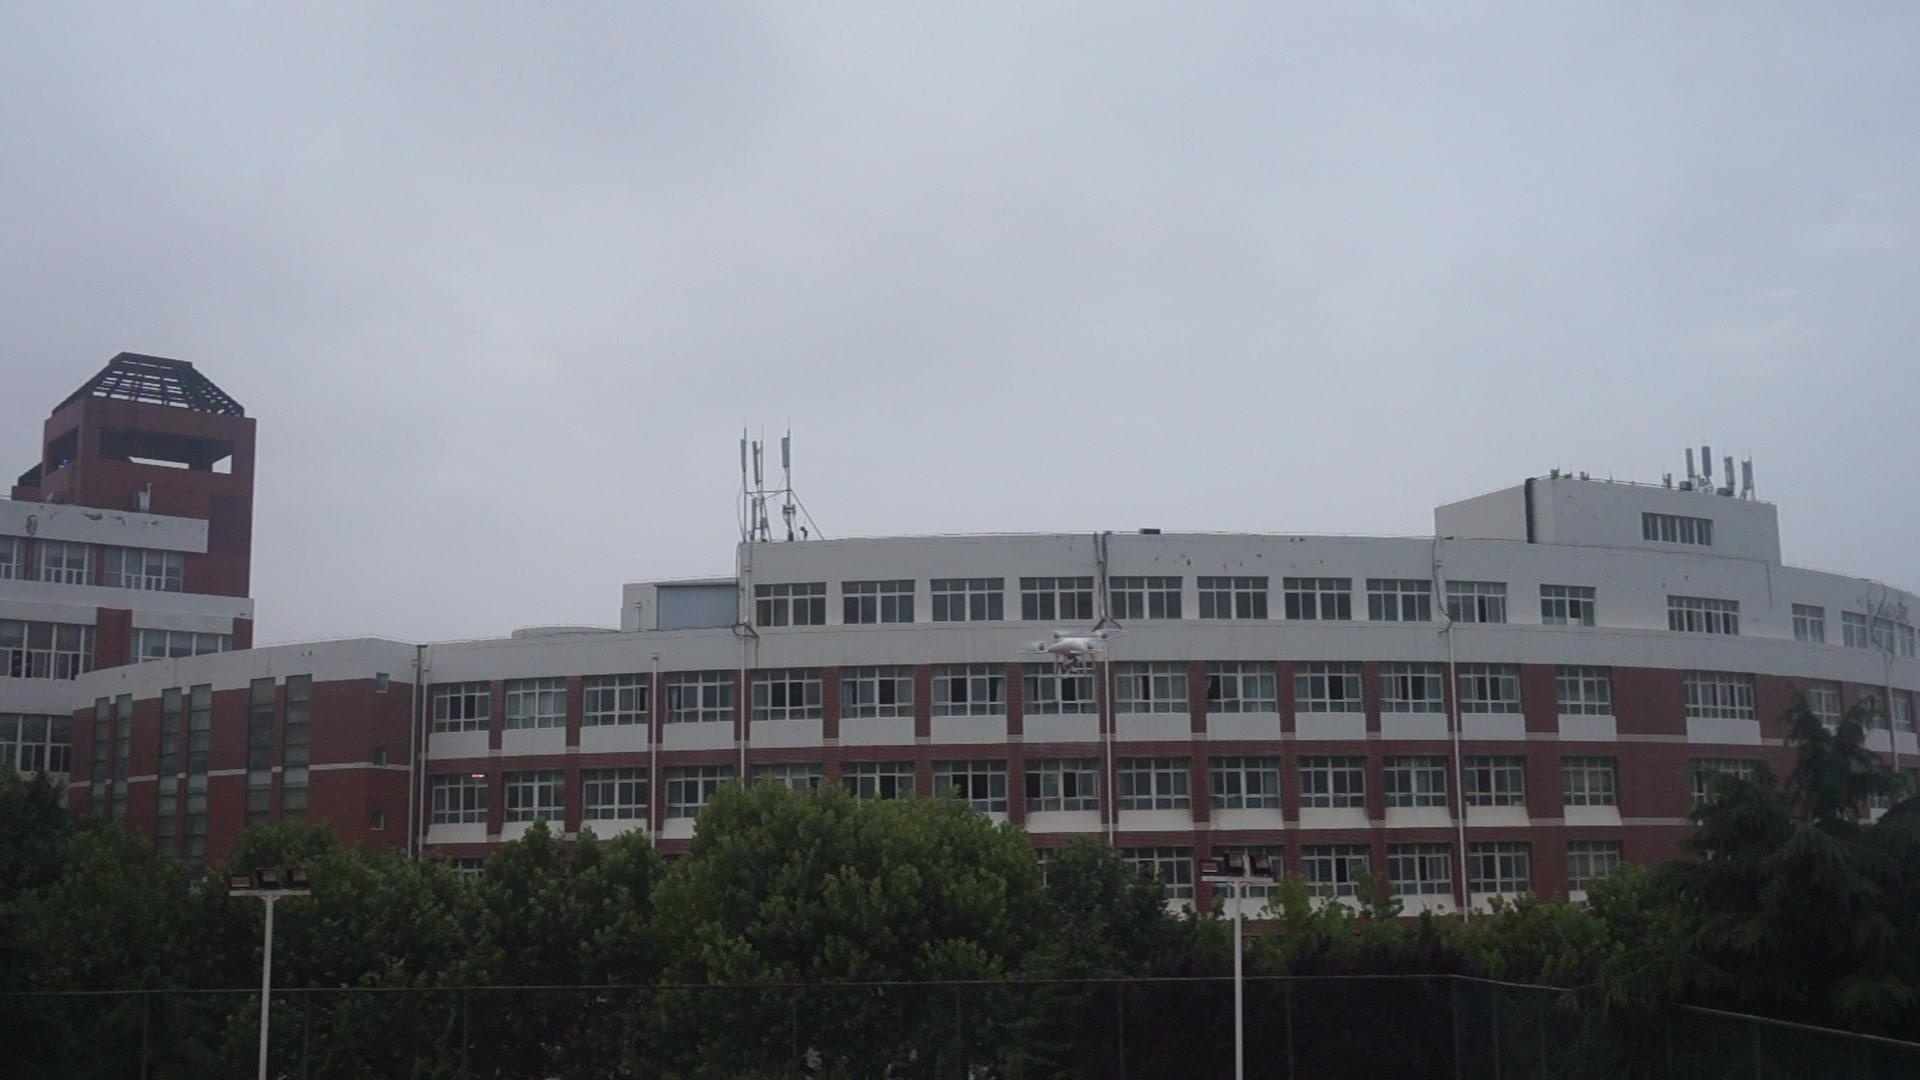UAV: (1019, 630, 1127, 673)
